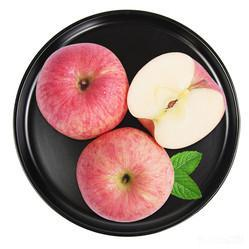apple: (127, 52, 227, 150), (77, 128, 175, 223), (36, 45, 129, 141)
